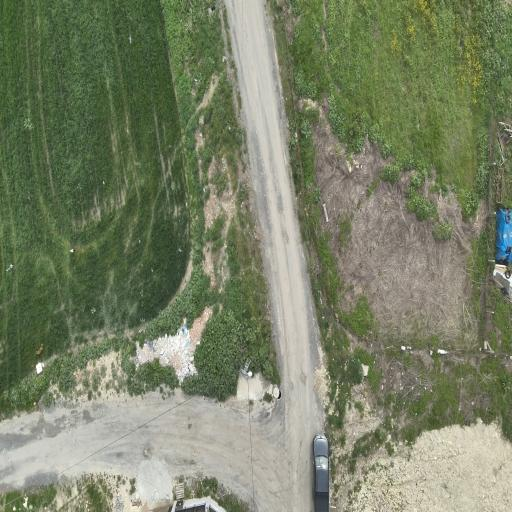car: (313, 435, 329, 511)
